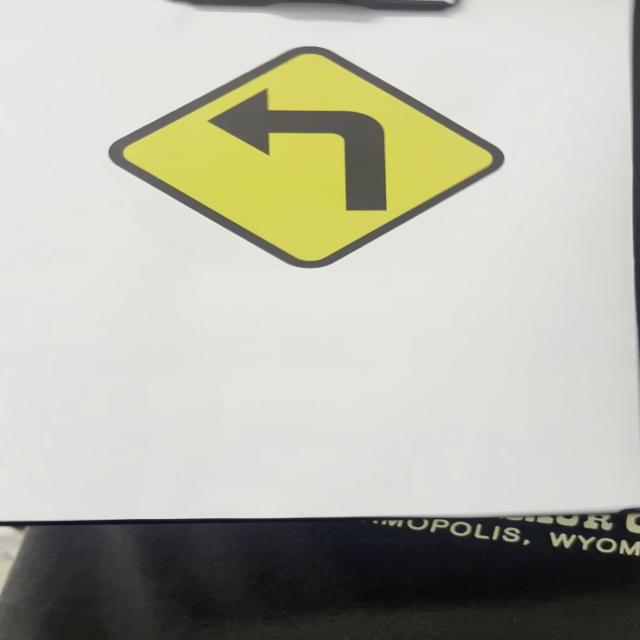left: (109, 47, 503, 268)
